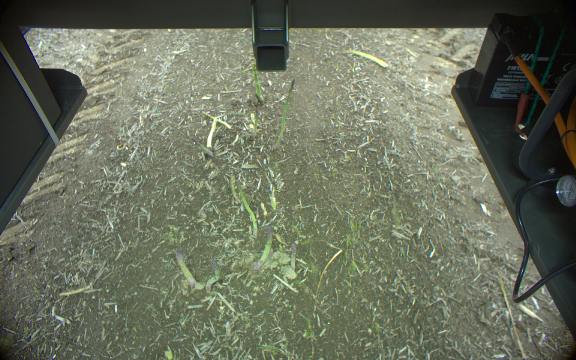aspa: (273, 76, 297, 148), (236, 181, 257, 234), (339, 48, 387, 69), (252, 224, 273, 270), (172, 251, 195, 286), (202, 256, 218, 291), (248, 65, 263, 102), (286, 241, 300, 274), (206, 116, 217, 149), (247, 112, 259, 138)
